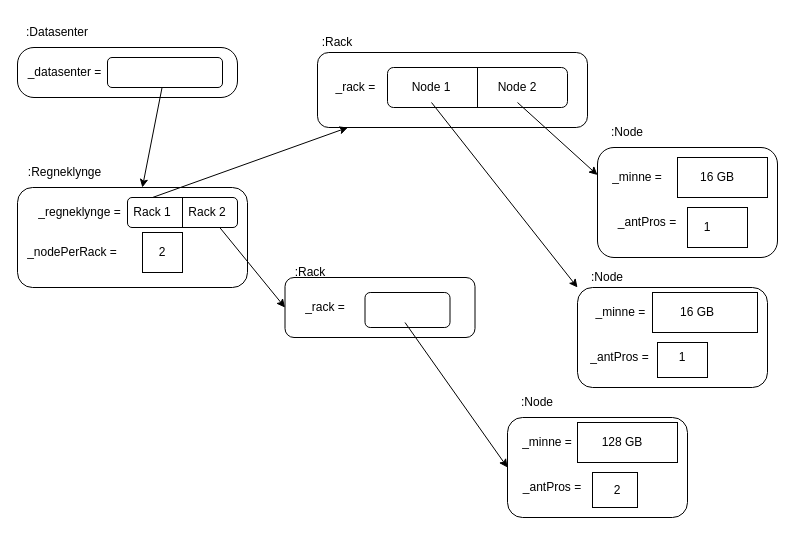
The diagram is 795 pixels wide and 535 high, and some of its shapes have lost their labels. Each missing label, with the box of its shape:
Node 3: (364, 292, 450, 328)
Regneklynge: (106, 56, 222, 88)
